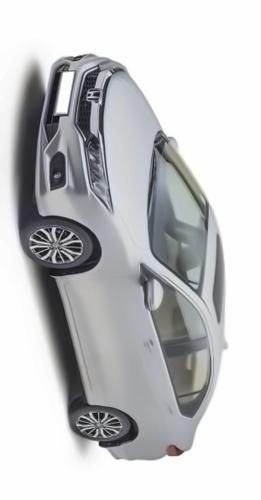Car hood: (102, 62, 157, 244)
Front bumper: (30, 51, 92, 219)
Headlight - -L-: (78, 132, 117, 219)
Passenger-s door - -F-L-: (58, 273, 213, 357)
Passenger-s door - -R-L-: (70, 348, 233, 411)
Rear bumper: (103, 436, 171, 470)
Rear light - -L-: (168, 441, 185, 462)
Side bumper - -L-: (48, 274, 109, 410)
Side mirror - -L-: (142, 279, 165, 312)
